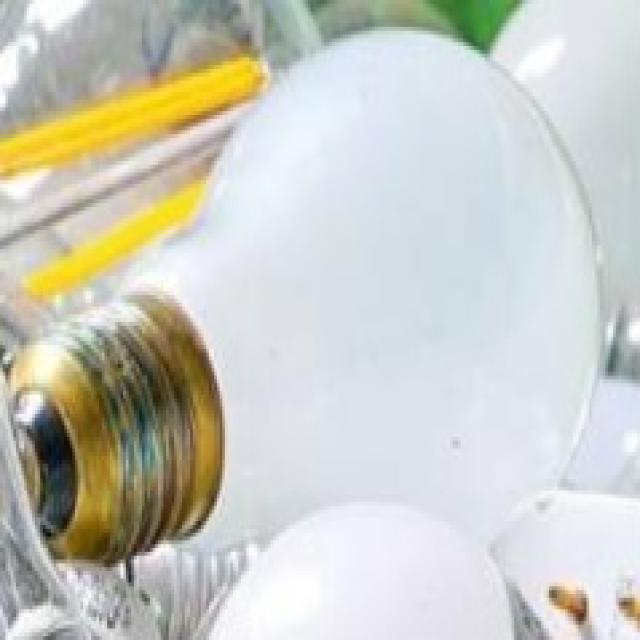bulb: (8, 0, 640, 594)
